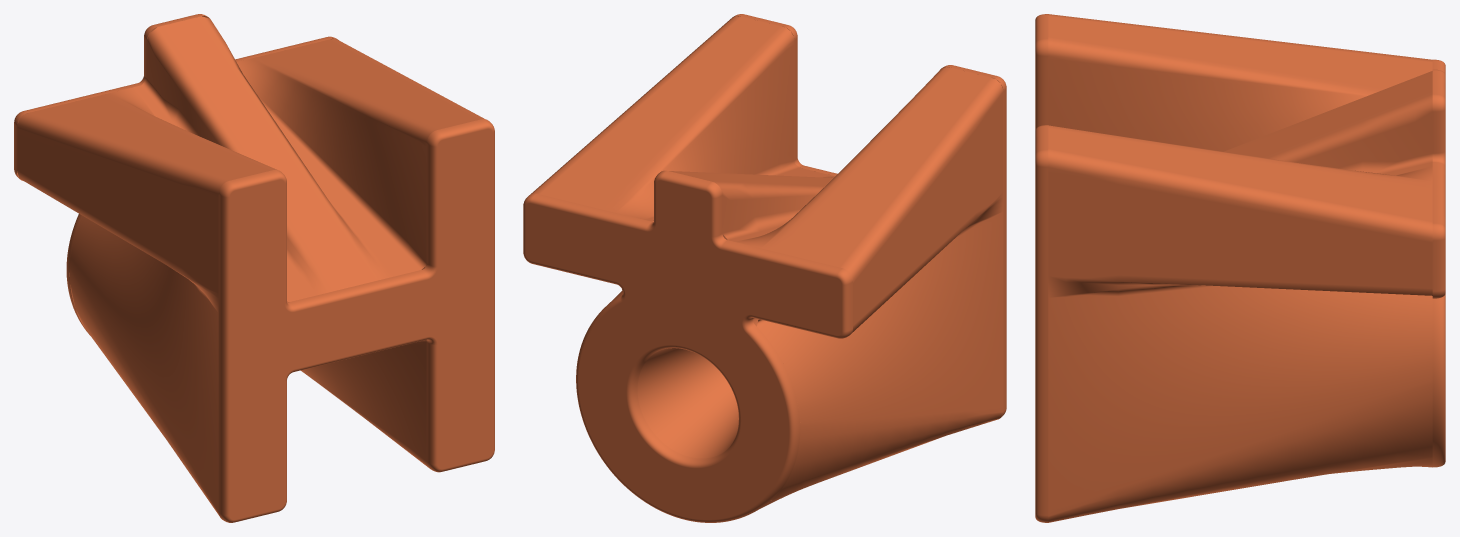
File: orange red Hㅎ.glb
The picture shows the model from 3 angles, left to right: view 1: azimuth 30°, elevation 25°; view 2: azimuth 150°, elevation 25°; view 3: azimuth 270°, elevation 25°; orthographic projection. The views are drawn at different scales.
Parts seen in each view (by area): view 1: object_1; view 2: object_1; view 3: object_1.
Part boxes in pixels (x1,y1,x2,y2): object_1: (14,14,494,522); object_1: (523,14,1006,522); object_1: (1035,14,1445,522).
Bounding box in the file's own units: 50.01 × 50.01 × 50.
